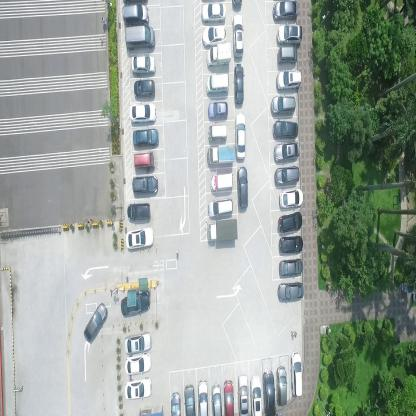car: (83, 302, 107, 342), (207, 216, 238, 244), (120, 289, 150, 316), (124, 24, 154, 50), (124, 224, 154, 249), (206, 140, 234, 166), (123, 331, 153, 355), (122, 377, 152, 401), (206, 41, 232, 68), (124, 352, 152, 376), (128, 100, 157, 123), (262, 368, 276, 415), (276, 22, 302, 46), (275, 68, 302, 91), (209, 170, 234, 194), (277, 210, 303, 233), (132, 126, 159, 148), (277, 280, 304, 302), (273, 140, 300, 162), (130, 53, 157, 75), (290, 349, 302, 397), (232, 12, 244, 60), (205, 72, 229, 96), (274, 164, 299, 187), (207, 197, 233, 219), (278, 186, 304, 208), (236, 112, 247, 162), (202, 25, 227, 47), (132, 173, 158, 194), (270, 94, 296, 115), (200, 1, 226, 22), (237, 166, 249, 211), (250, 374, 263, 415), (272, 0, 297, 21), (272, 119, 299, 138), (122, 4, 149, 23), (278, 235, 304, 254), (238, 372, 249, 416), (134, 77, 155, 99), (276, 365, 287, 407), (133, 150, 156, 170), (127, 201, 151, 220), (279, 258, 303, 277), (234, 62, 244, 106), (197, 379, 209, 415), (183, 382, 196, 415), (208, 123, 228, 144), (208, 100, 228, 121), (277, 45, 298, 65), (223, 378, 234, 415), (211, 382, 222, 415), (170, 390, 182, 415)
